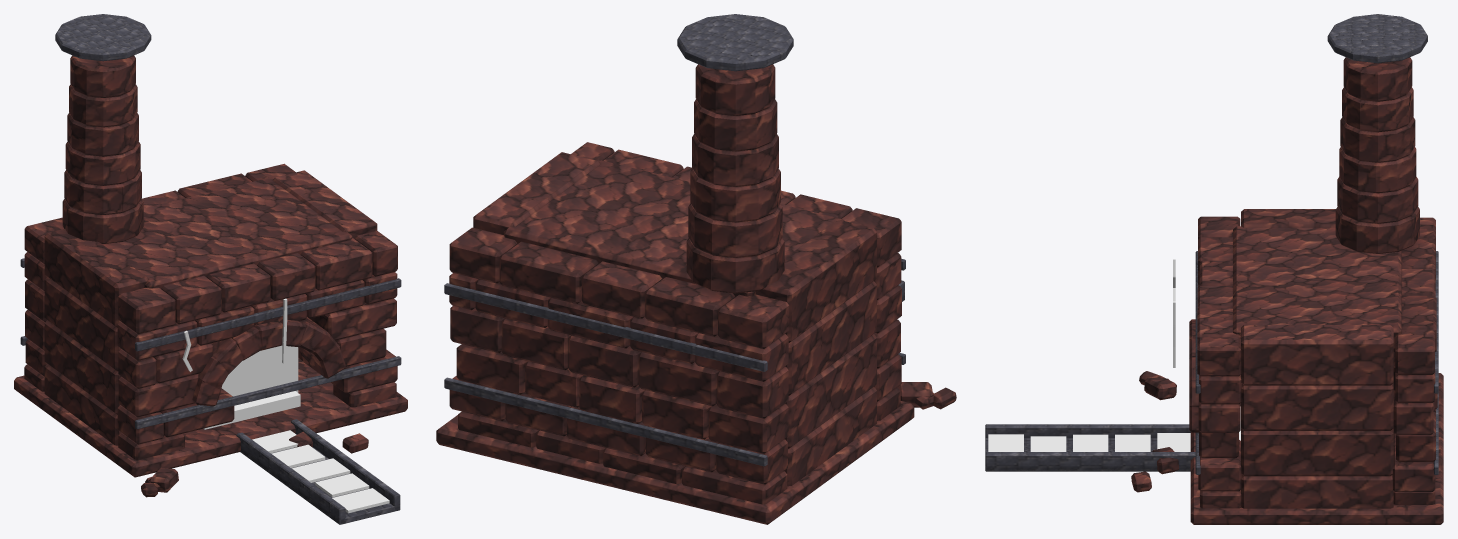
Rendered from mapkit_furnace_magma.fbx.
3 views of the same model, side by side, from view 1: azimuth 30°, elevation 25°; view 2: azimuth 150°, elevation 25°; view 3: azimuth 270°, elevation 25° (orthographic). The views are drawn at different scales.
Parts seen in each view (by area): view 1: Body, c_255_102_26, c_255_115_31, c_255_158_51; view 2: Body; view 3: Body, c_255_102_26.
Boxes of the visible parts, x1,y1,x2,y2 form: Body: (14,14,407,524); c_255_102_26: (252,430,389,513); c_255_115_31: (182,298,298,396); c_255_158_51: (203,391,300,429); Body: (436,14,956,524); Body: (985,14,1443,524); c_255_102_26: (988,433,1190,451).
Size of the model in its own units: 1314 by 1608 by 1740.
1 material, 1 textured.
